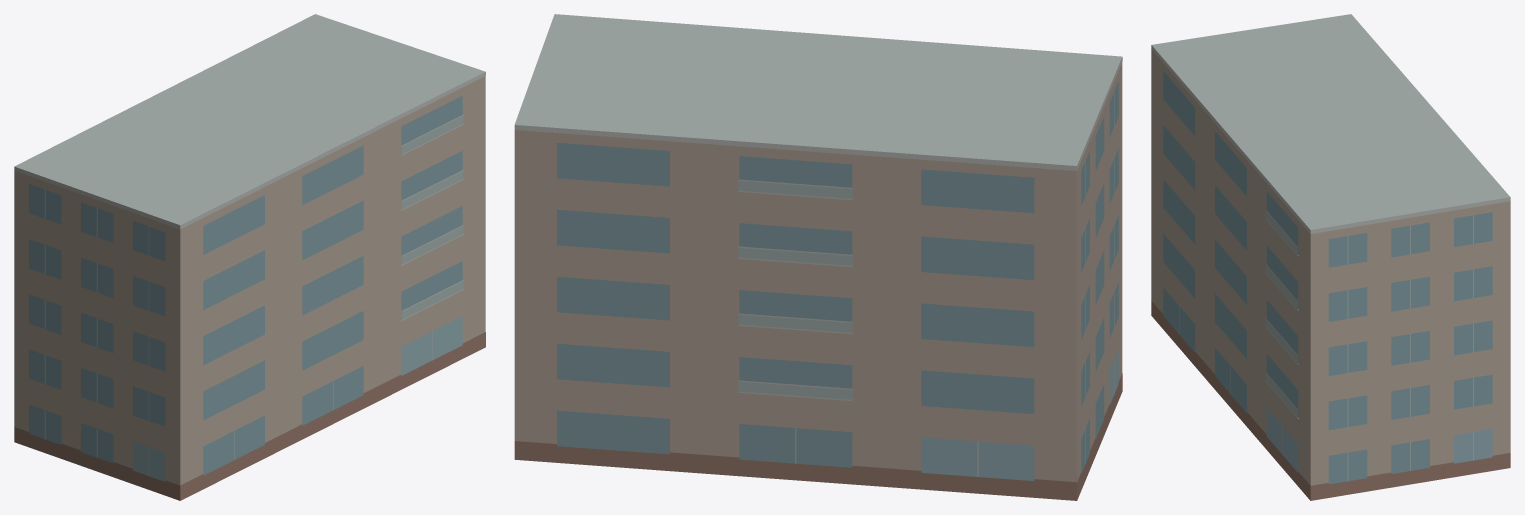
Rendered from survey-upis-33022477.glb.
3 renders of one model, left to right at view 1: azimuth 30°, elevation 25°; view 2: azimuth 150°, elevation 25°; view 3: azimuth 270°, elevation 25°, orthographic. The views are drawn at different scales.
Parts seen in each view (by area): view 1: survey-upis-33022477.tmp; view 2: survey-upis-33022477.tmp; view 3: survey-upis-33022477.tmp.
Boxes of the visible parts, left/top/right/bottom form: survey-upis-33022477.tmp: left=14, top=14, right=485, bottom=500; survey-upis-33022477.tmp: left=514, top=14, right=1122, bottom=500; survey-upis-33022477.tmp: left=1151, top=14, right=1510, bottom=500.
Bounding box in the file's own units: 27.65 × 16.15 × 19.42.
